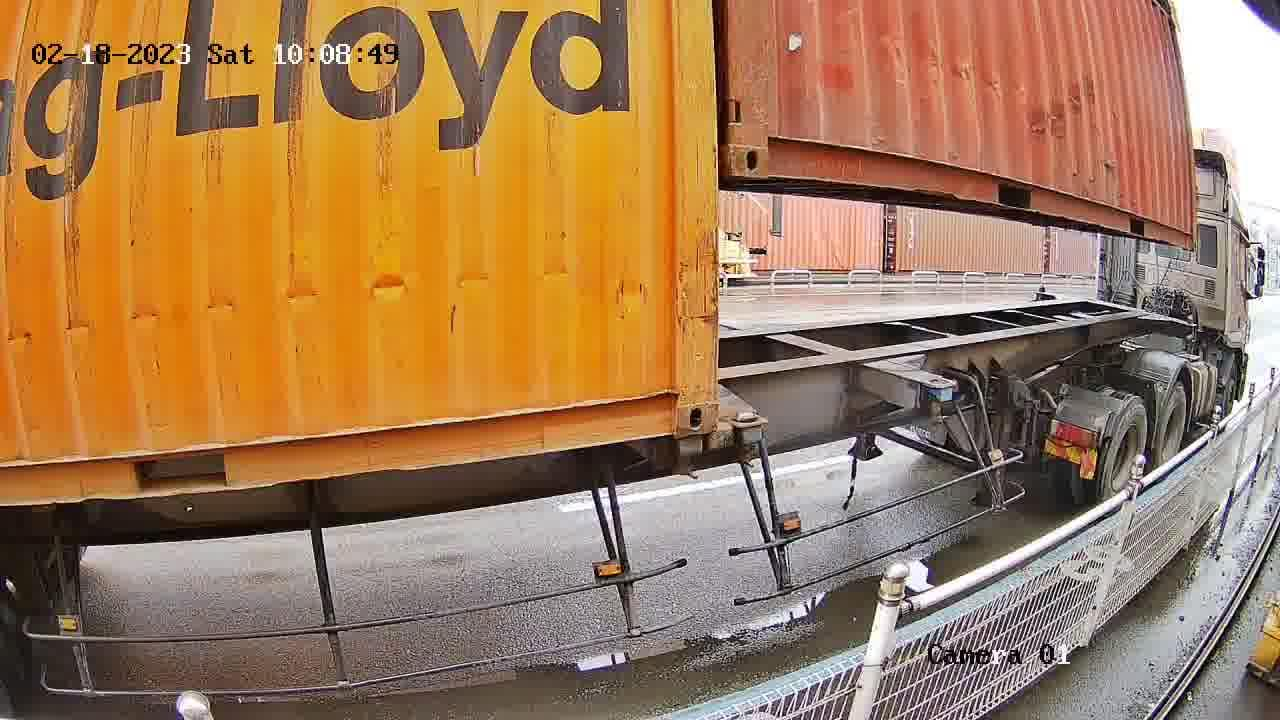Cone: (727, 409, 770, 467), (671, 434, 707, 481)
Hole_L: (728, 105, 805, 182)
Hole_R: (638, 359, 718, 440)
Tire: (1102, 400, 1149, 507), (1153, 384, 1186, 473)
